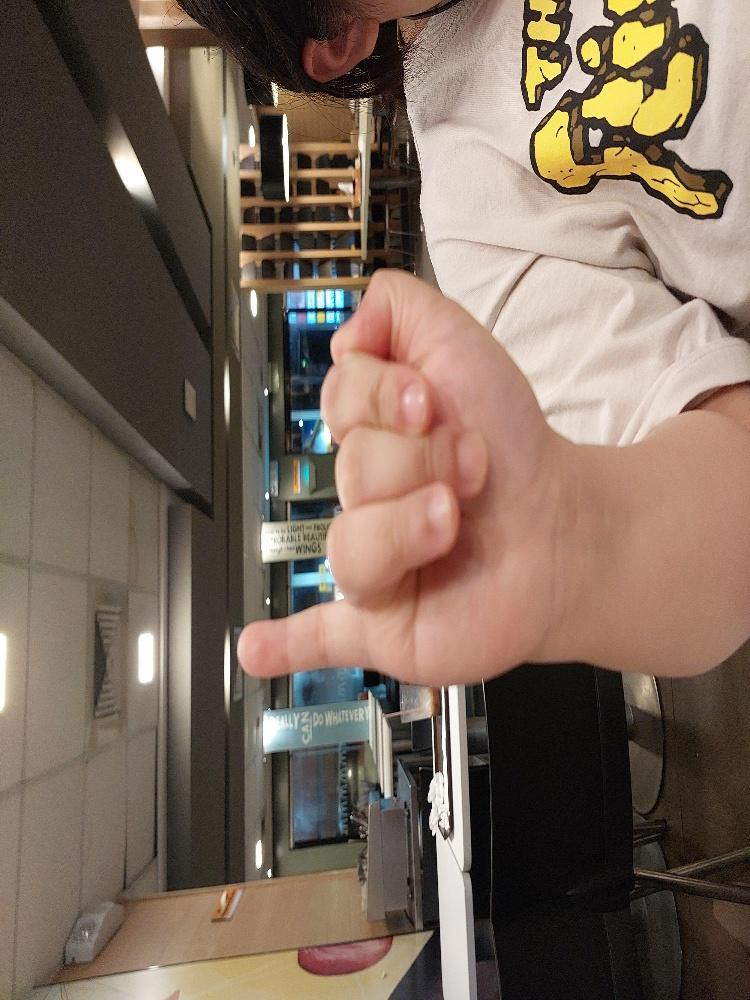i: (231, 312, 550, 745)
